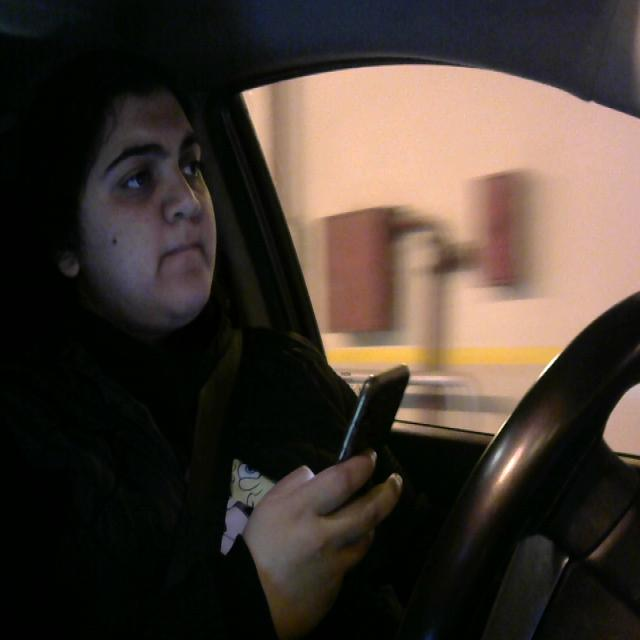mobile use: (326, 366, 415, 504)
